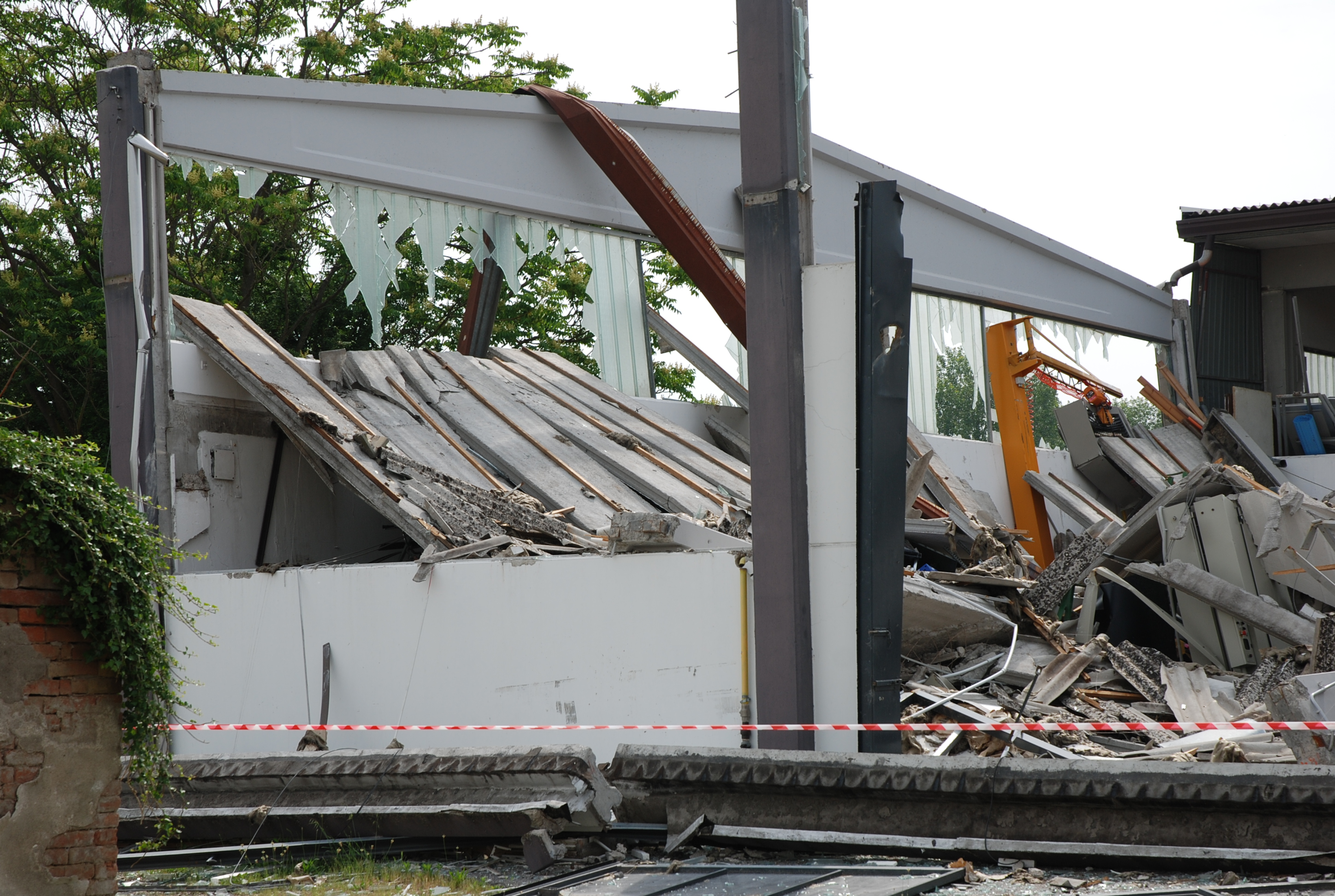Debris: (170, 267, 765, 563), (888, 413, 1332, 766), (125, 827, 1325, 894)
Other damage/mechanism: (121, 67, 1316, 820)
